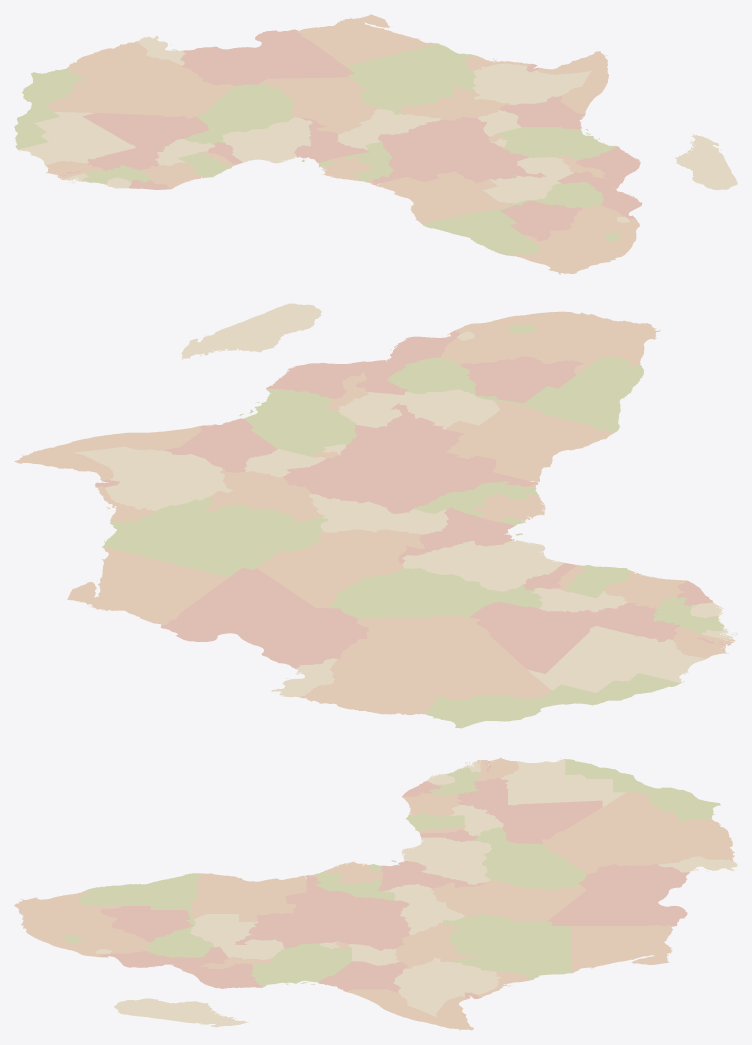
The model's file is africa.fbx.
The picture shows the model from 3 angles, top to bottom: view 1: azimuth 30°, elevation 25°; view 2: azimuth 150°, elevation 25°; view 3: azimuth 270°, elevation 25°; orthographic projection. The views are drawn at different scales.
Visible parts, largest first — view 1: path490, path386, path274, path74, path98, path250, path418, path482, path178, path378, path242, path354 (+23 smaller); view 2: path490, path386, path274, path74, path98, path250, path418, path482, path178, path378, path242, path354 (+25 smaller); view 3: path490, path386, path274, path74, path98, path250, path418, path482, path178, path378, path242, path354 (+23 smaller).
Part boxes in pixels (<box>): path490: <box>47,41,234,118</box>; path386: <box>372,116,546,184</box>; path274: <box>180,29,354,85</box>; path74: <box>345,44,476,114</box>; path98: <box>515,205,639,274</box>; path250: <box>82,113,208,170</box>; path418: <box>262,77,380,134</box>; path482: <box>368,171,514,224</box>; path178: <box>184,82,294,144</box>; path378: <box>297,14,438,66</box>; path242: <box>18,112,135,167</box>; path354: <box>472,63,591,104</box>; path490: <box>298,615,551,715</box>; path386: <box>283,403,538,513</box>; path274: <box>160,568,368,668</box>; path74: <box>103,495,328,577</box>; path98: <box>440,311,660,374</box>; path250: <box>469,602,680,673</box>; path418: <box>256,529,425,608</box>; path482: <box>445,400,614,488</box>; path178: <box>329,568,542,618</box>; path378: <box>67,546,228,625</box>; path242: <box>527,626,710,692</box>; path354: <box>74,446,233,510</box>; path490: <box>542,792,734,873</box>; path386: <box>234,875,411,950</box>; path274: <box>547,863,689,926</box>; path74: <box>443,913,573,979</box>; path98: <box>14,892,149,957</box>; path250: <box>457,778,602,843</box>; path418: <box>431,880,586,921</box>; path482: <box>190,873,319,922</box>; path178: <box>472,827,587,889</box>; path378: <box>572,924,672,973</box>; path242: <box>500,759,625,806</box>; path354: <box>393,957,501,1016</box>.
Bounding box in the file's own units: 14.66 × 7.16e-07 × 16.38.
